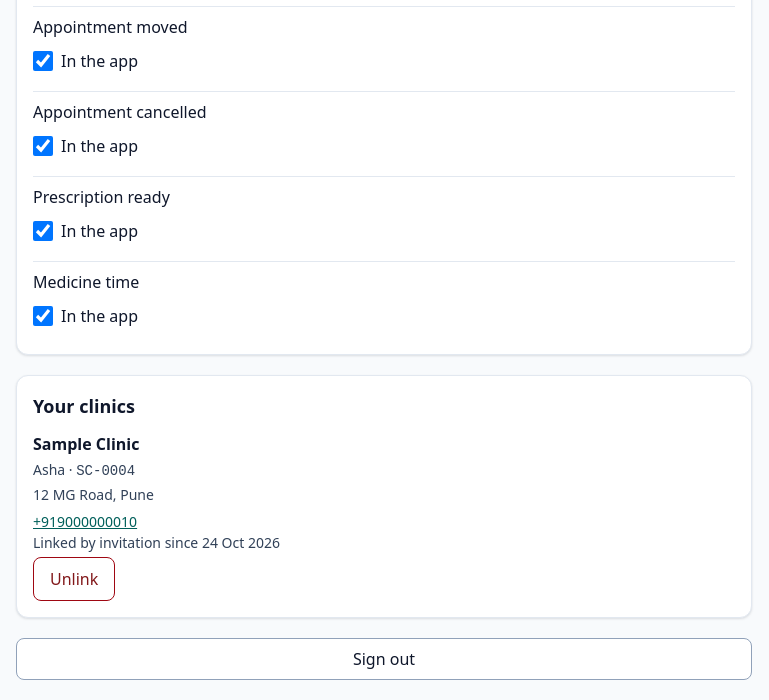
Account (R20, AC12) › unlinks a clinic only after the confirmation
(page scrolled)
Click the button with aria-label "Unlink Sample Clinic" at (74, 579), box 33,557 -> 115,601
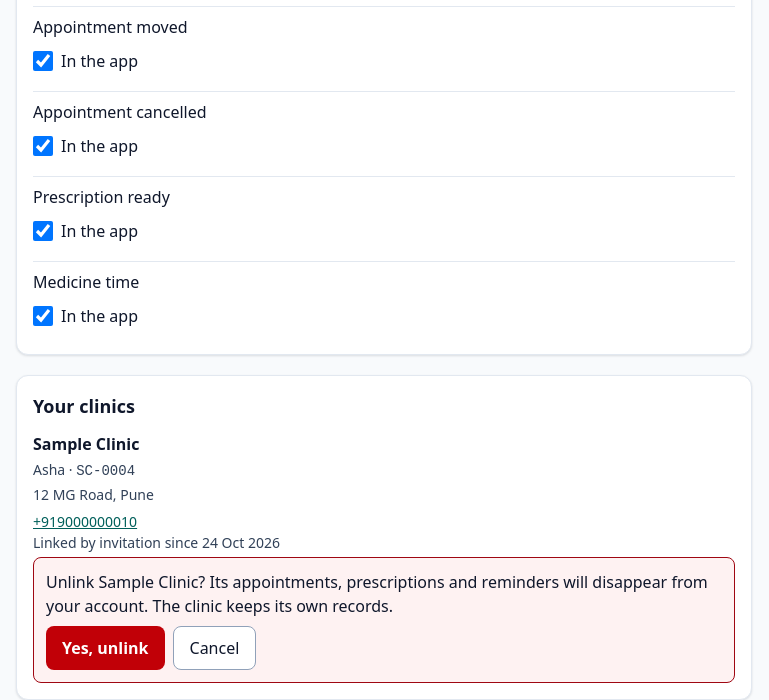
Result: the text "will disappear from your account" is shown at 46,571 -> 708,617
Click the button "Yes, unlink" at (105, 648), box 46,626 -> 164,670
(page scrolled)
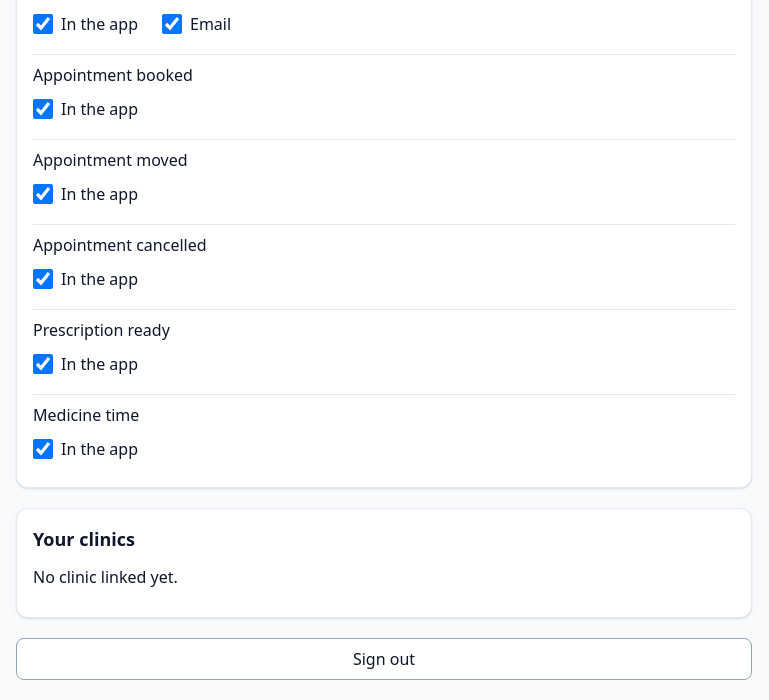
Result: the text "No clinic linked yet." is shown at 33,566 -> 178,588
